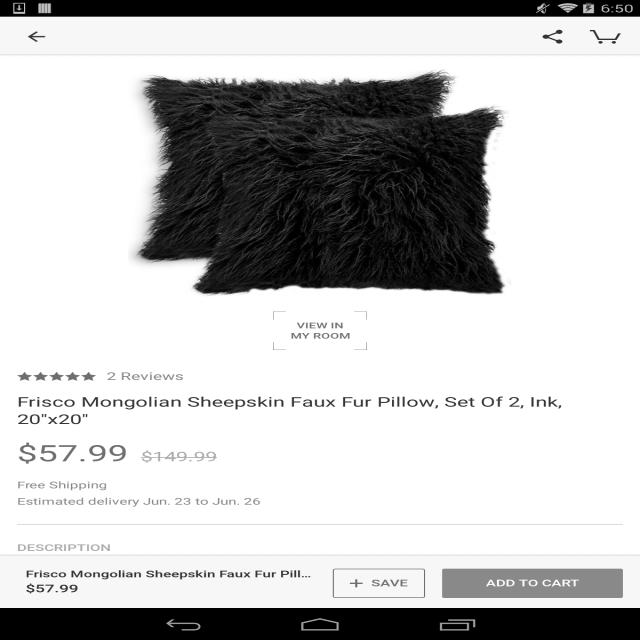ImageButton: (9, 18, 68, 55)
ImageView: (588, 25, 622, 47), (536, 26, 570, 47)
TextView: (17, 563, 623, 607), (17, 392, 623, 430), (141, 447, 623, 467), (17, 478, 623, 492), (17, 541, 623, 555), (17, 495, 623, 508), (442, 569, 623, 598), (26, 567, 316, 581), (17, 438, 128, 470), (333, 569, 425, 598), (290, 320, 350, 342), (107, 369, 184, 384), (26, 581, 78, 597)
